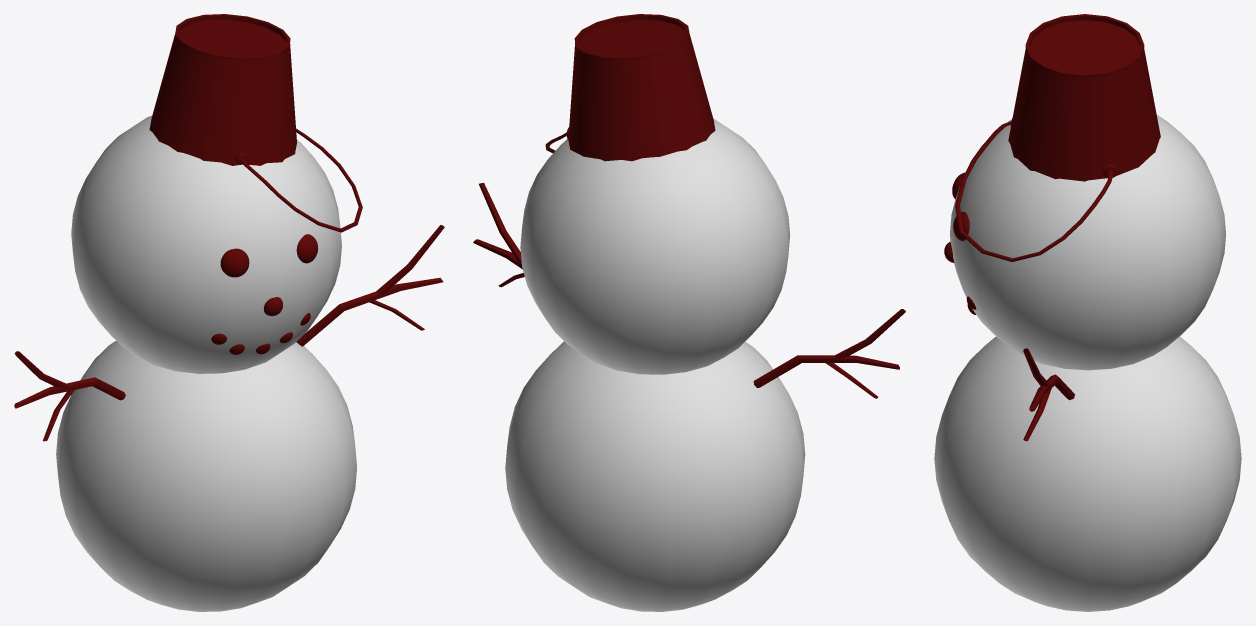
The model's file is Snowman_x20.fbx.
The picture shows the model from 3 angles, left to right: view 1: azimuth 30°, elevation 25°; view 2: azimuth 150°, elevation 25°; view 3: azimuth 270°, elevation 25°; orthographic projection.
Visible parts, largest first — view 1: Snowman; view 2: Snowman; view 3: Snowman.
Part boxes in pixels (x1,y1,x2,y2): Snowman: (14, 14, 444, 611); Snowman: (473, 14, 905, 611); Snowman: (934, 14, 1241, 611).
Size of the model in its own units: 728 by 909 by 443.
